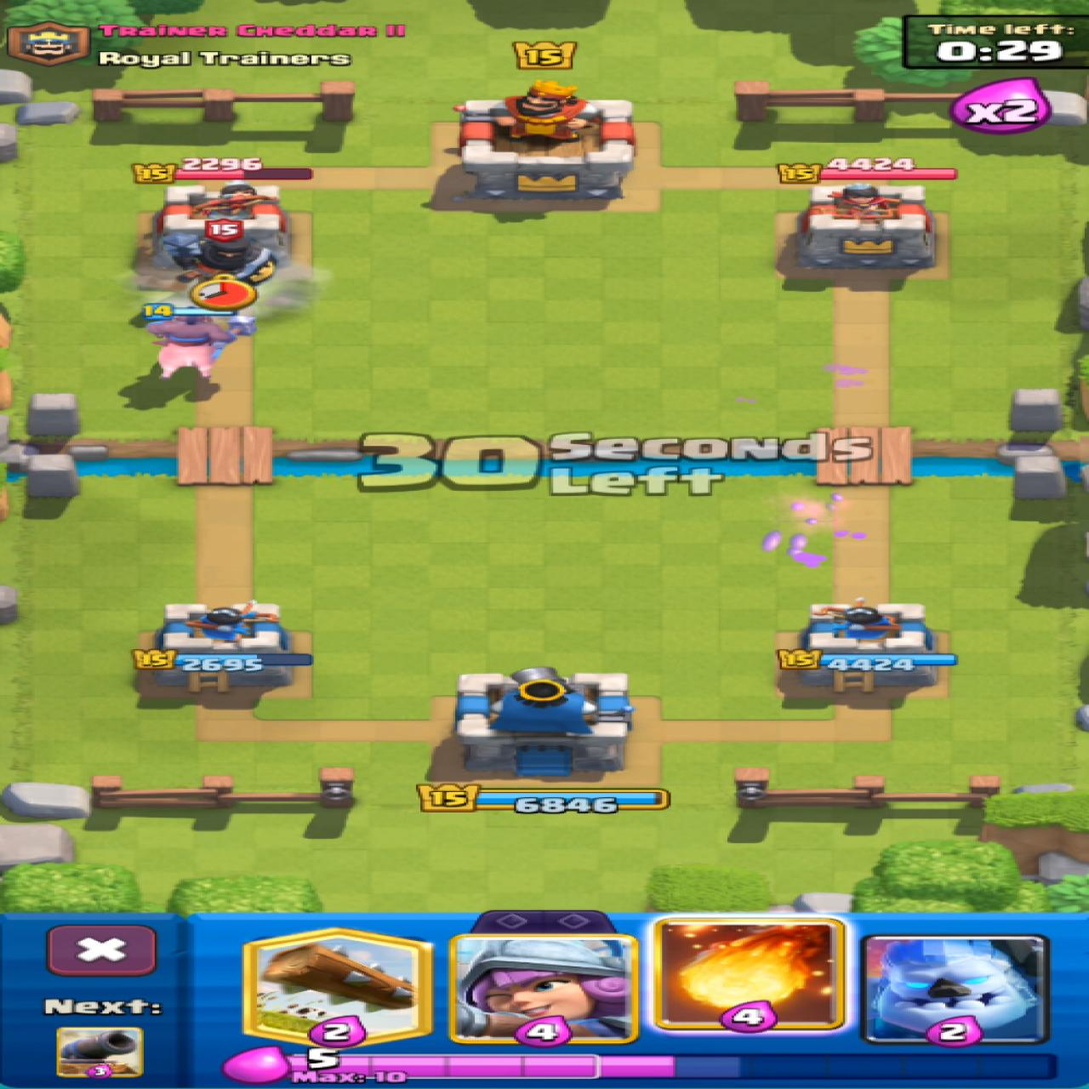Enemy-DarkPrince-Shield: (166, 224, 277, 284)
Enemy-KingTower: (457, 81, 634, 198)
Enemy-PrincessTower: (797, 183, 932, 269), (155, 182, 287, 256)
